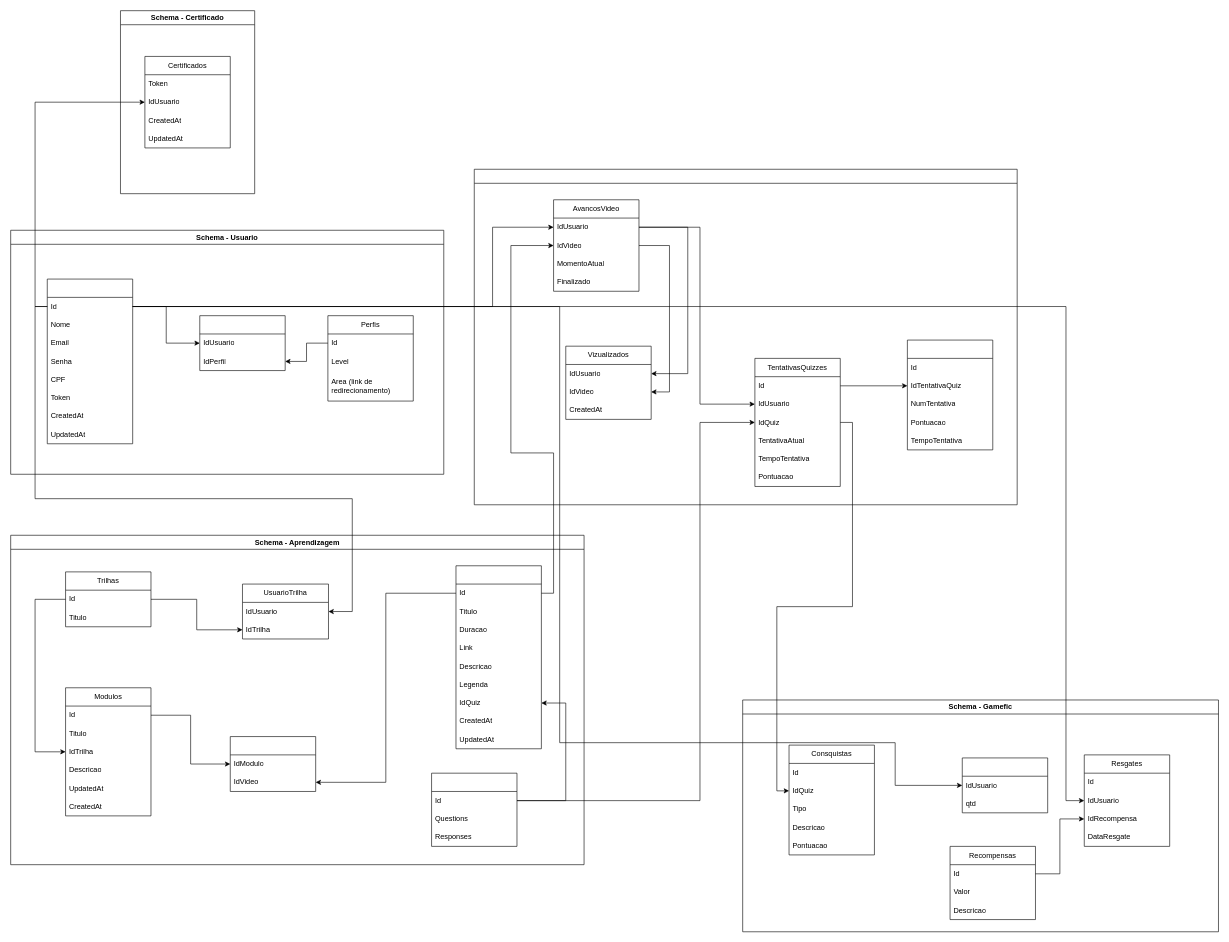
This 1229x942 diagram has some shape labels left out. Here are the shapes that lost their labels. From the top down, the box of each, then its label:
(199, 315, 285, 371): UsuarioPerfil
(474, 169, 1017, 505): Schema - Progresso
(47, 278, 133, 444): Usuarios
(907, 339, 993, 450): HistoricoTentativas
(455, 565, 541, 749): Videos
(230, 736, 316, 791): ModuloVideo
(962, 757, 1048, 813): Pontos
(431, 773, 517, 846): Quizzes
